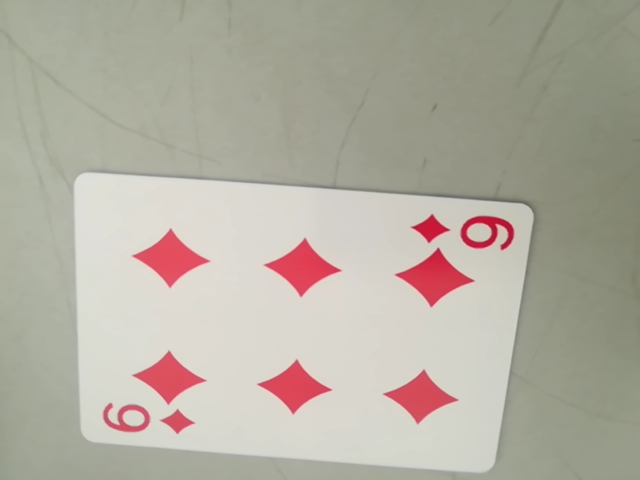fk 6: (407, 208, 516, 254), (96, 396, 196, 445)
